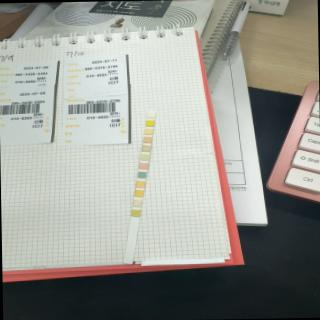mark: (130, 209, 140, 216), (132, 200, 142, 207), (136, 180, 144, 188), (134, 190, 142, 196), (138, 172, 146, 178), (139, 163, 147, 169), (140, 154, 148, 160), (142, 144, 150, 150), (142, 136, 150, 142), (144, 128, 152, 134), (147, 111, 155, 117), (146, 120, 154, 125)
